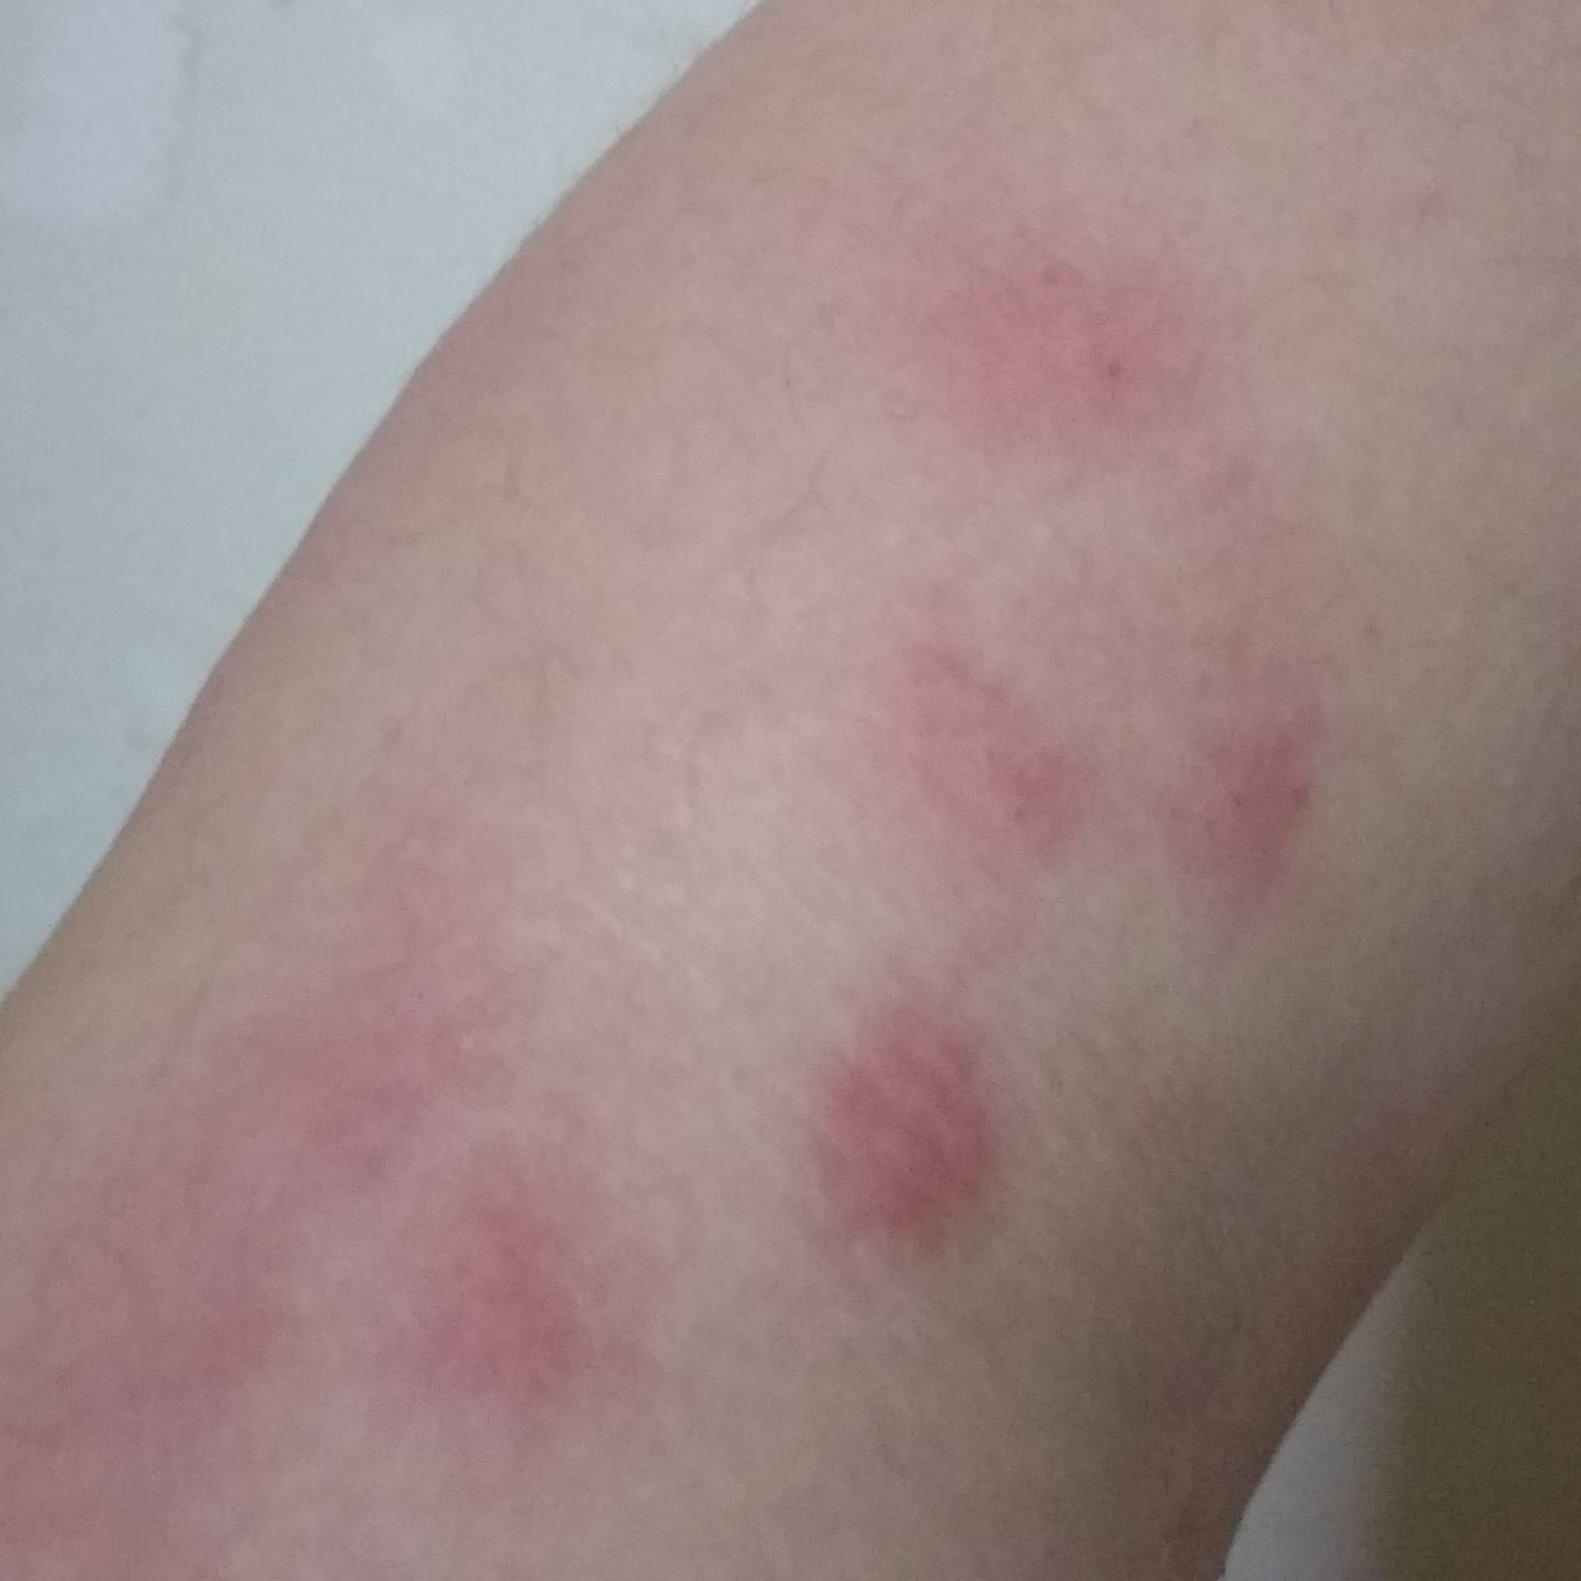Fleas: (792, 995, 1021, 1262), (52, 1226, 291, 1458), (429, 1194, 620, 1454), (958, 252, 1168, 452), (1171, 665, 1331, 916), (857, 640, 1024, 859), (203, 1040, 475, 1147)
